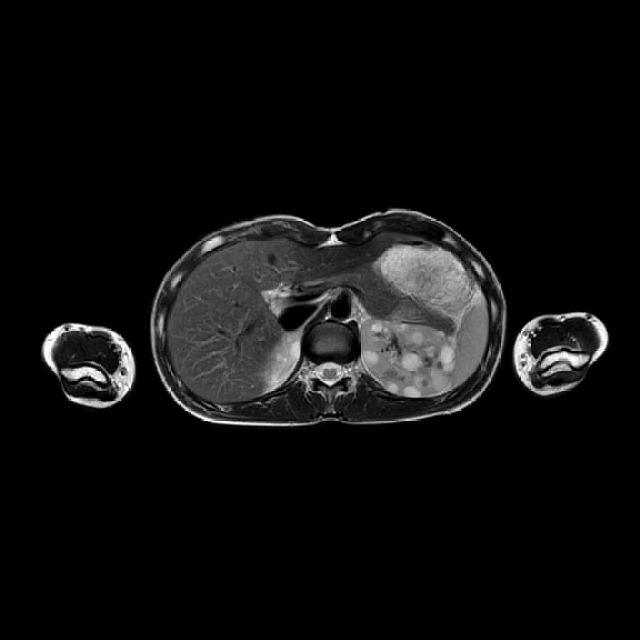sag: (272, 330, 302, 378)
sol: (361, 319, 455, 395)
